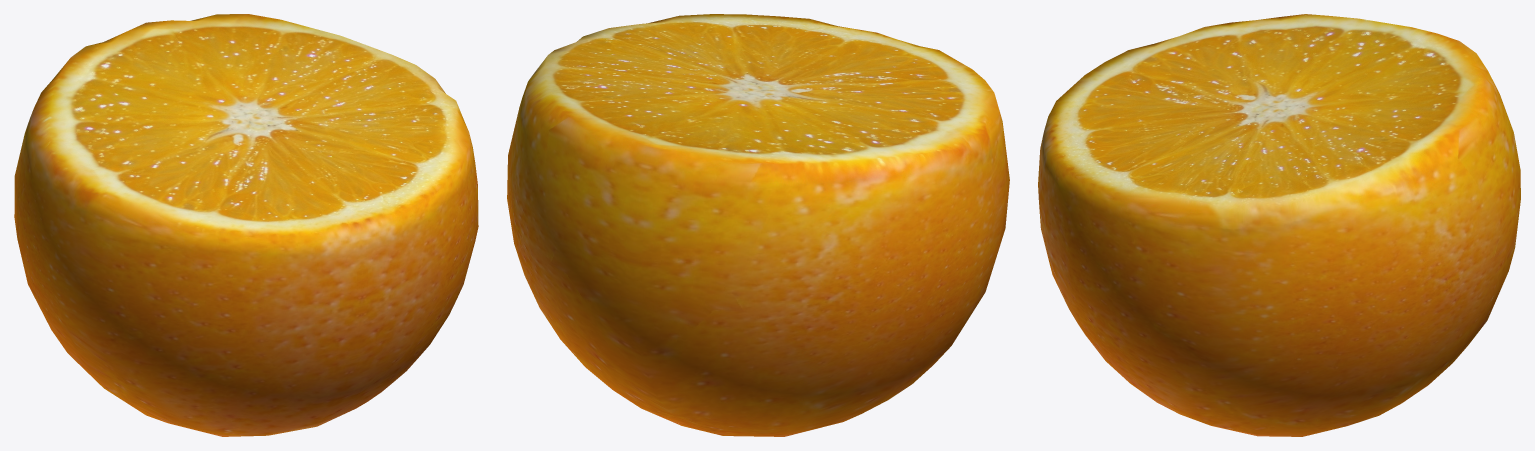
File: orange.gltf
The picture shows the model from 3 angles, left to right: view 1: azimuth 30°, elevation 25°; view 2: azimuth 150°, elevation 25°; view 3: azimuth 270°, elevation 25°; orthographic projection. The views are drawn at different scales.
Visible parts, largest first — view 1: Object_2; view 2: Object_2; view 3: Object_2.
Part boxes in pixels (left/top/right/bottom): Object_2: left=14, top=14, right=478, bottom=436; Object_2: left=507, top=14, right=1009, bottom=436; Object_2: left=1038, top=14, right=1520, bottom=436.
Bounding box in the file's own units: 27.8 × 21.09 × 27.78.
2 materials, 1 textured.
